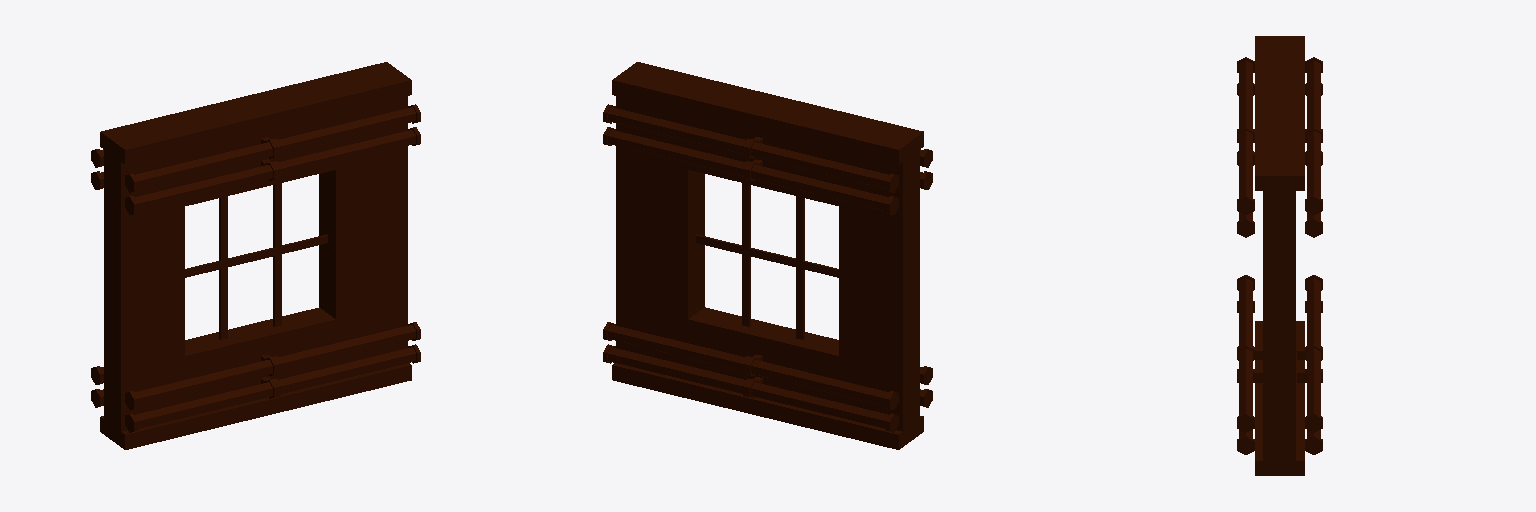
The model's file is 4x4_wall_window_noglass_pipe.obj.
3 renders of one model, left to right at view 1: azimuth 30°, elevation 25°; view 2: azimuth 150°, elevation 25°; view 3: azimuth 270°, elevation 25°, orthographic.
Parts seen in each view (by area): view 1: wall, pipe; view 2: wall, pipe; view 3: wall, pipe.
Boxes of the visible parts, x1,y1,x2,y2 form: wall: [100, 62, 411, 449]; pipe: [91, 104, 420, 432]; wall: [612, 62, 923, 449]; pipe: [603, 104, 932, 432]; wall: [1255, 36, 1304, 475]; pipe: [1237, 57, 1322, 454].
Size of the model in its own units: 4 by 4 by 1.04.